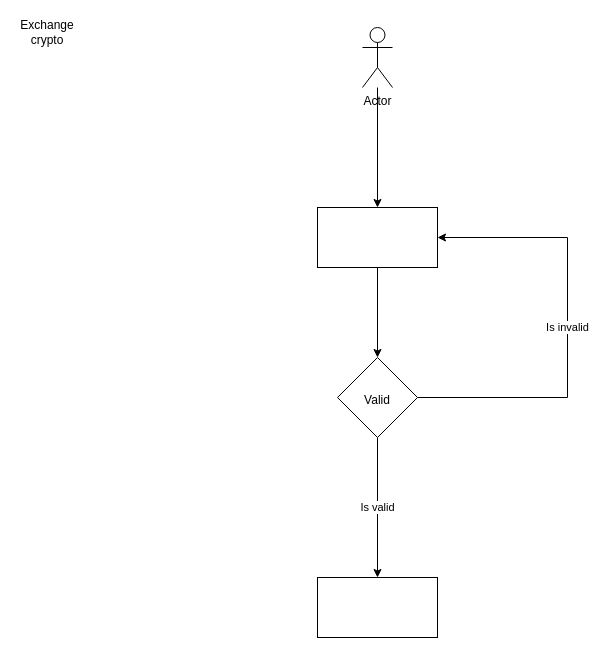
This 606x655 diagram has some shape labels left out. The centre of each missing label's shape, as x and y in pixels:
Fill out exchange form: (x=377, y=237)
Process transaction: (x=377, y=607)
